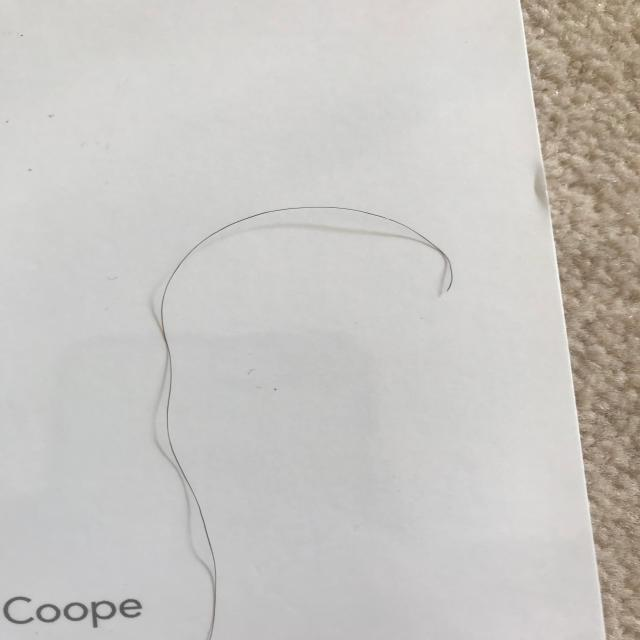hair: (150, 202, 456, 638)
